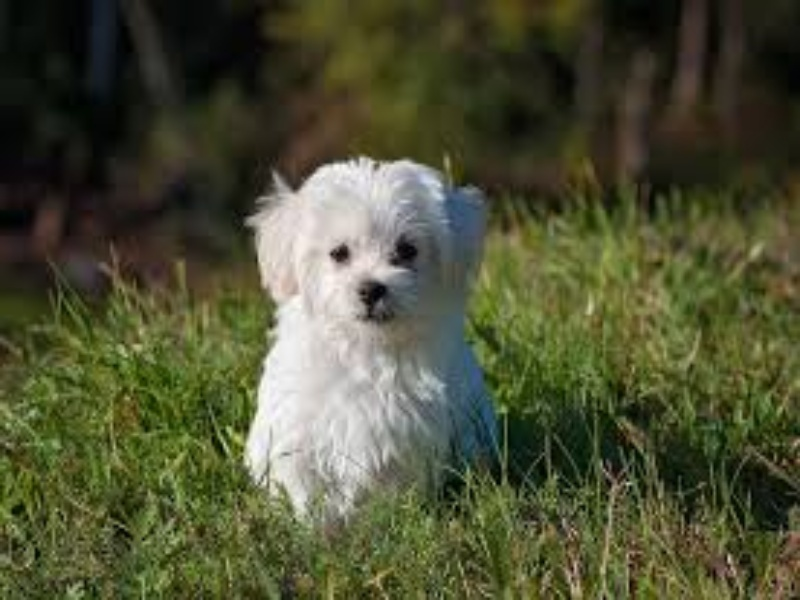dog: (195, 123, 563, 516)
